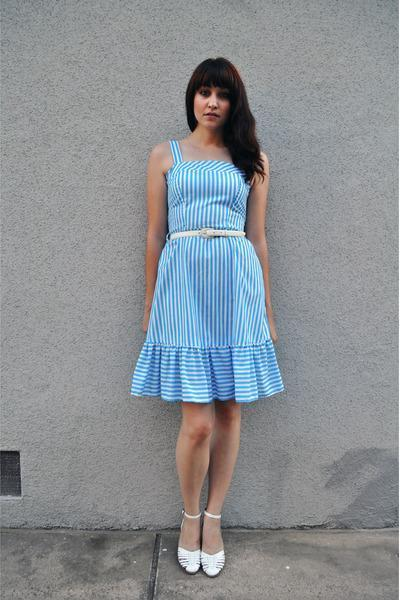dress: (126, 137, 287, 407)
